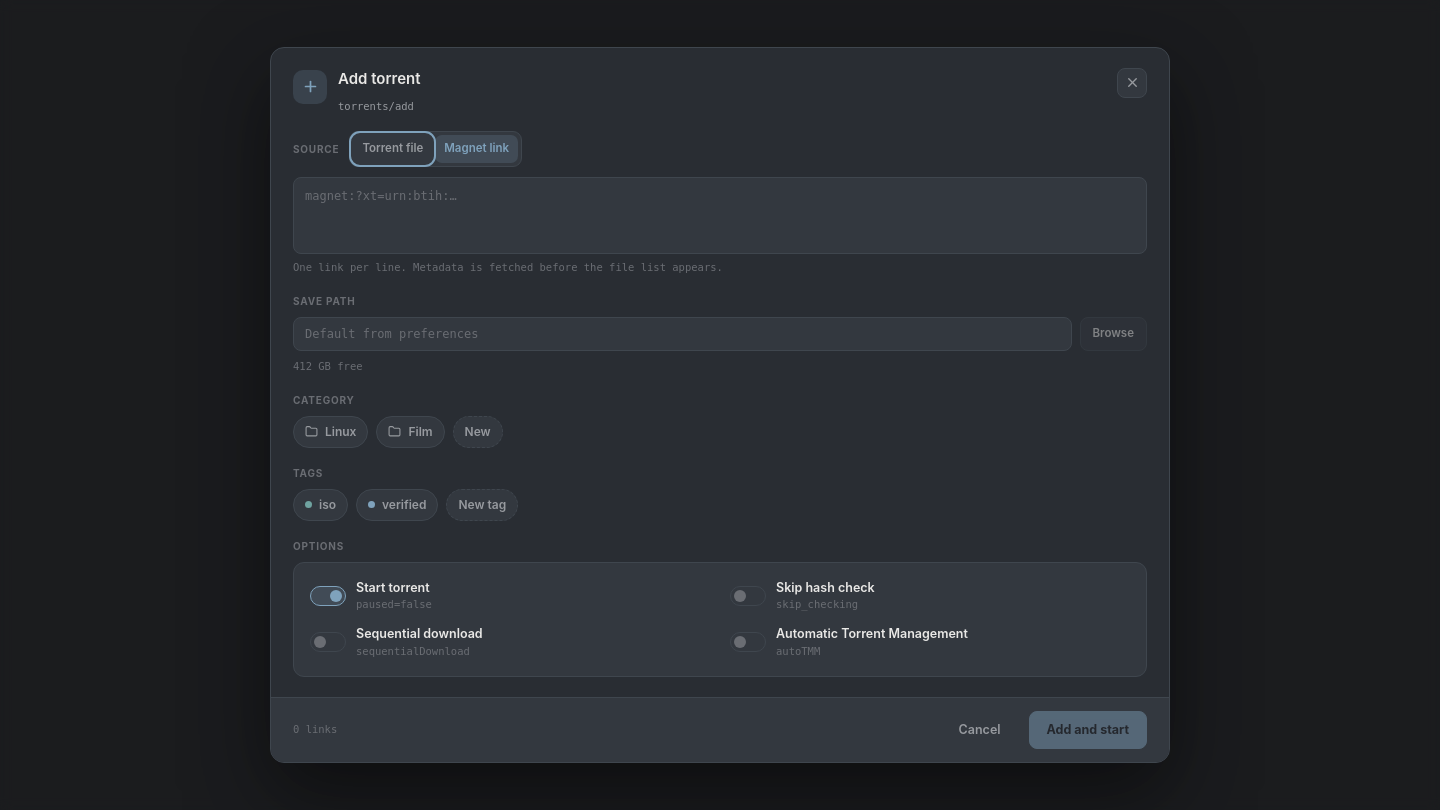
AddTorrentDialog › names the button after what it will do
Expected: the button "Add and start" is shown, [1028,711,1147,750]
Click the switch named "Start torrent".
click(328, 596)  # box [310,586,346,606]
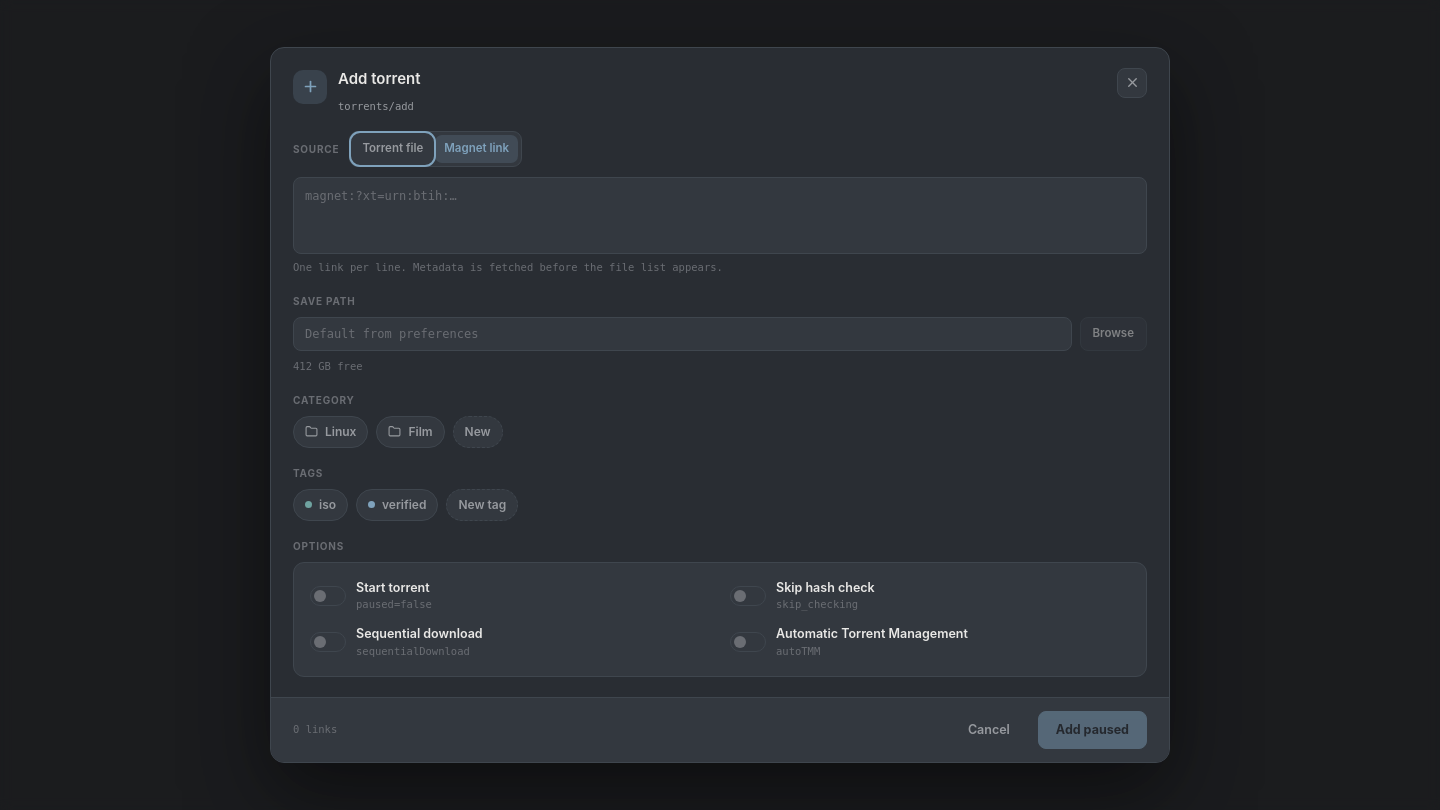
Expected: the button "Add paused" is shown, [1038,711,1147,750]
